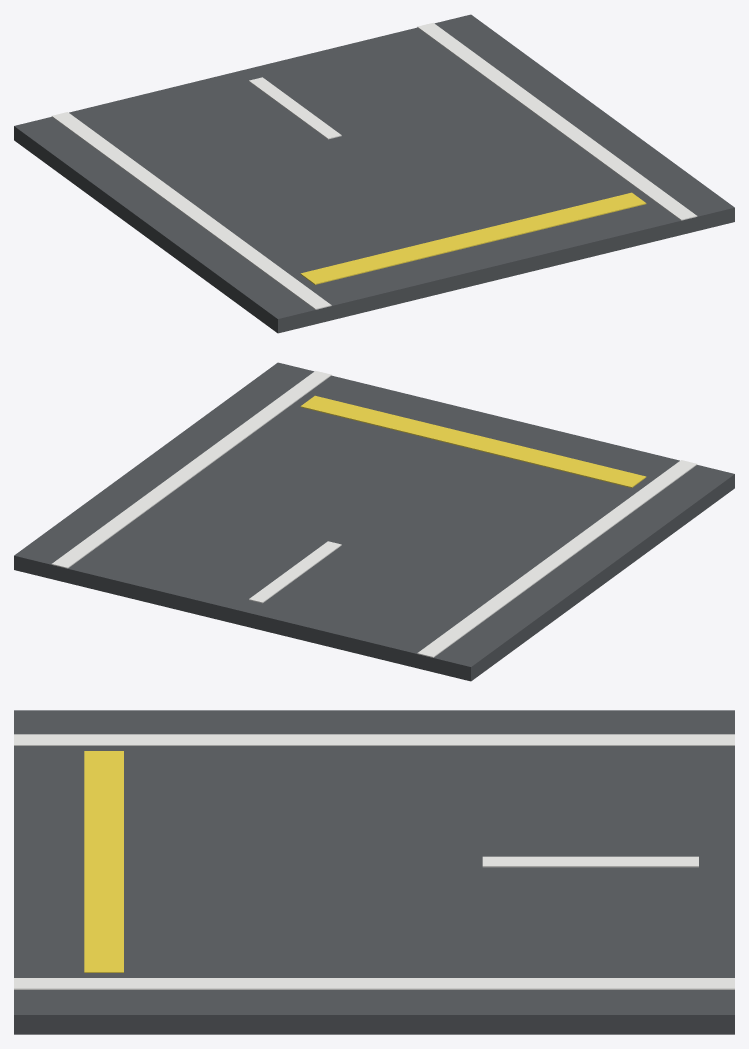
Rendered from ferry-terminal-and-harbour-crossing-ferry-terminal-and-6763bc4d__35624.glb.
3 views of the same model, one above another, from view 1: azimuth 30°, elevation 25°; view 2: azimuth 150°, elevation 25°; view 3: azimuth 270°, elevation 25° (orthographic). The views are drawn at different scales.
Visible parts, largest first — view 1: ferry-terminal-and-harbour-crossing-marshalling-lane-tile; view 2: ferry-terminal-and-harbour-crossing-marshalling-lane-tile; view 3: ferry-terminal-and-harbour-crossing-marshalling-lane-tile.
Boxes of the visible parts, x1,y1,x2,y2 form: ferry-terminal-and-harbour-crossing-marshalling-lane-tile: [14, 14, 734, 333]; ferry-terminal-and-harbour-crossing-marshalling-lane-tile: [14, 362, 734, 681]; ferry-terminal-and-harbour-crossing-marshalling-lane-tile: [14, 710, 734, 1034].
Size of the model in its own units: 4 by 0.1281 by 4.
